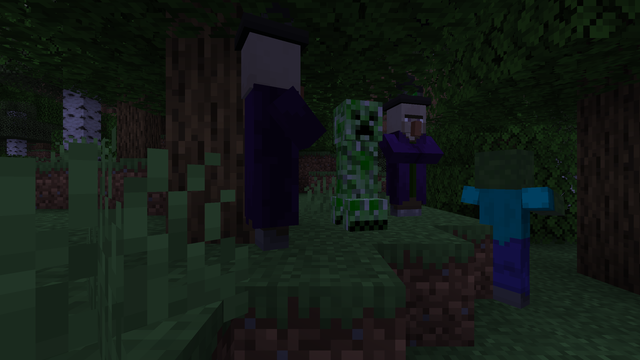creepers: (333, 93, 383, 229)
sorcieres: (226, 24, 301, 251), (390, 98, 429, 217)
zombies: (468, 153, 544, 309)
